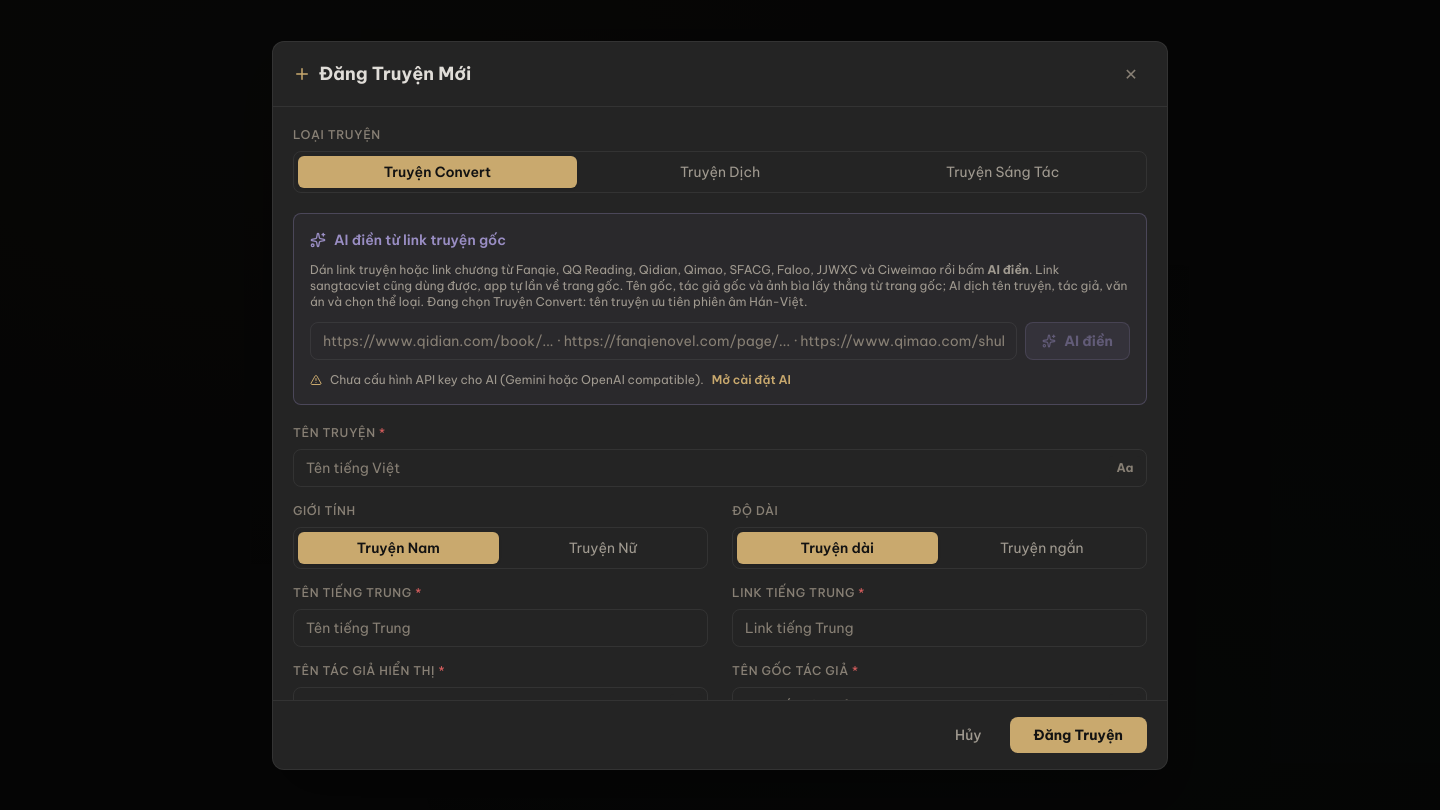
CreateBookModal › without an AI key, still fills the source fields and points to the AI settings
Replace the text in the field named "Link truyện gốc" with "https://www.qidian.com/book/1010868264/" at (664, 340), box x1=310 y1=322 x2=1017 y2=360
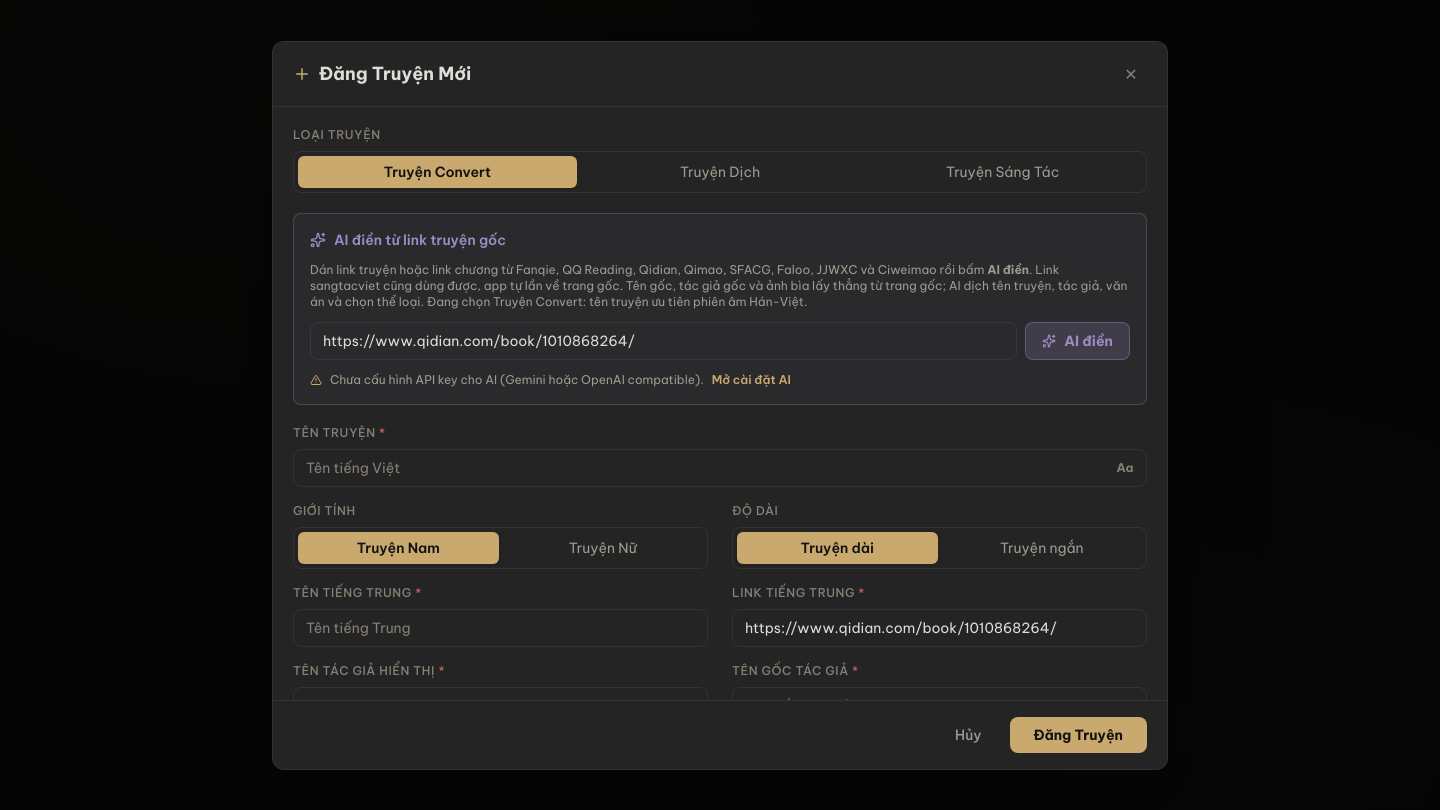
Click the button "AI điền" at (1078, 340), box x1=1025 y1=322 x2=1130 y2=360
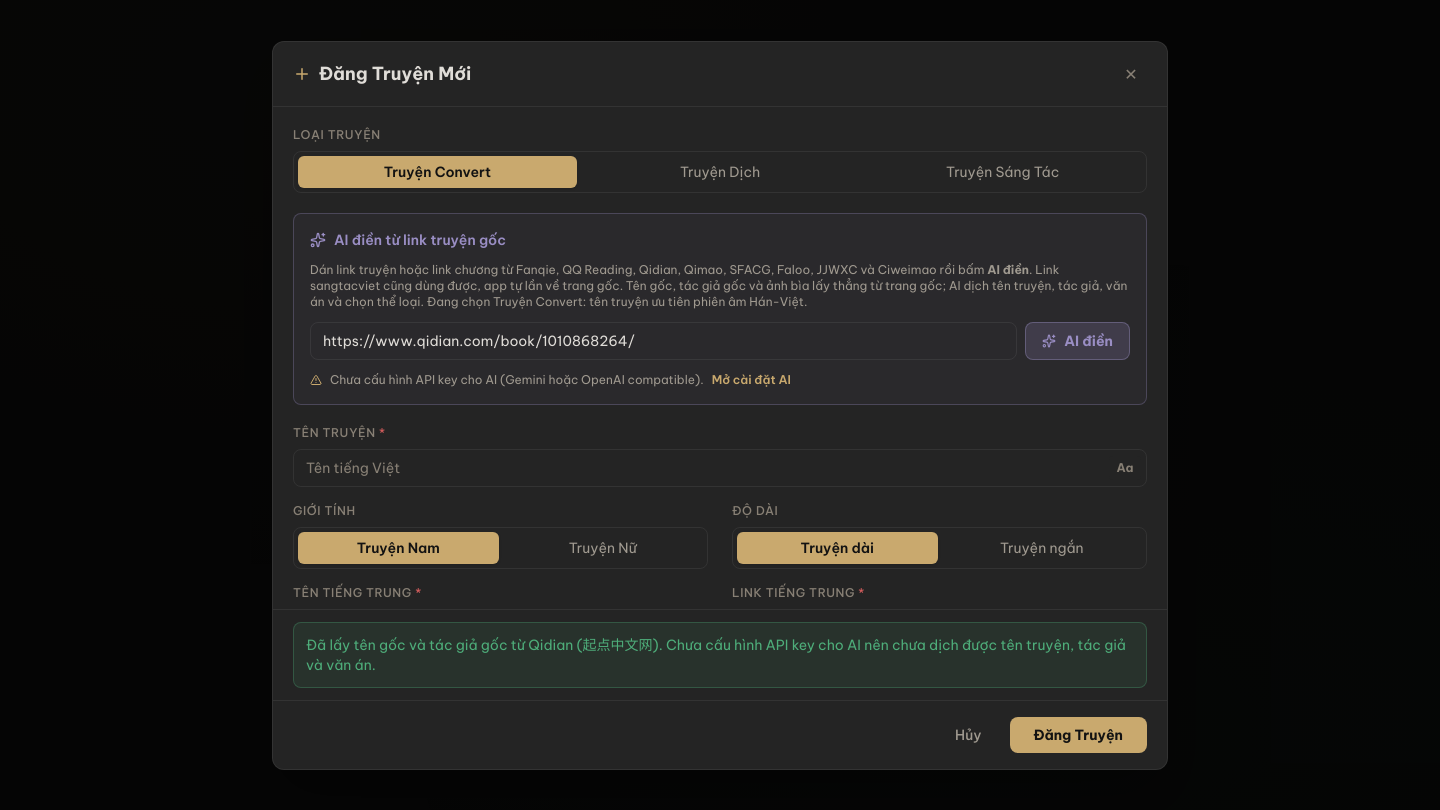
Check: the button "Mở cài đặt AI" is shown, box x1=712 y1=372 x2=791 y2=388
Check: the text "Chưa cấu hình API key cho AI nên chưa dịch được" is shown, box x1=306 y1=636 x2=1126 y2=674
